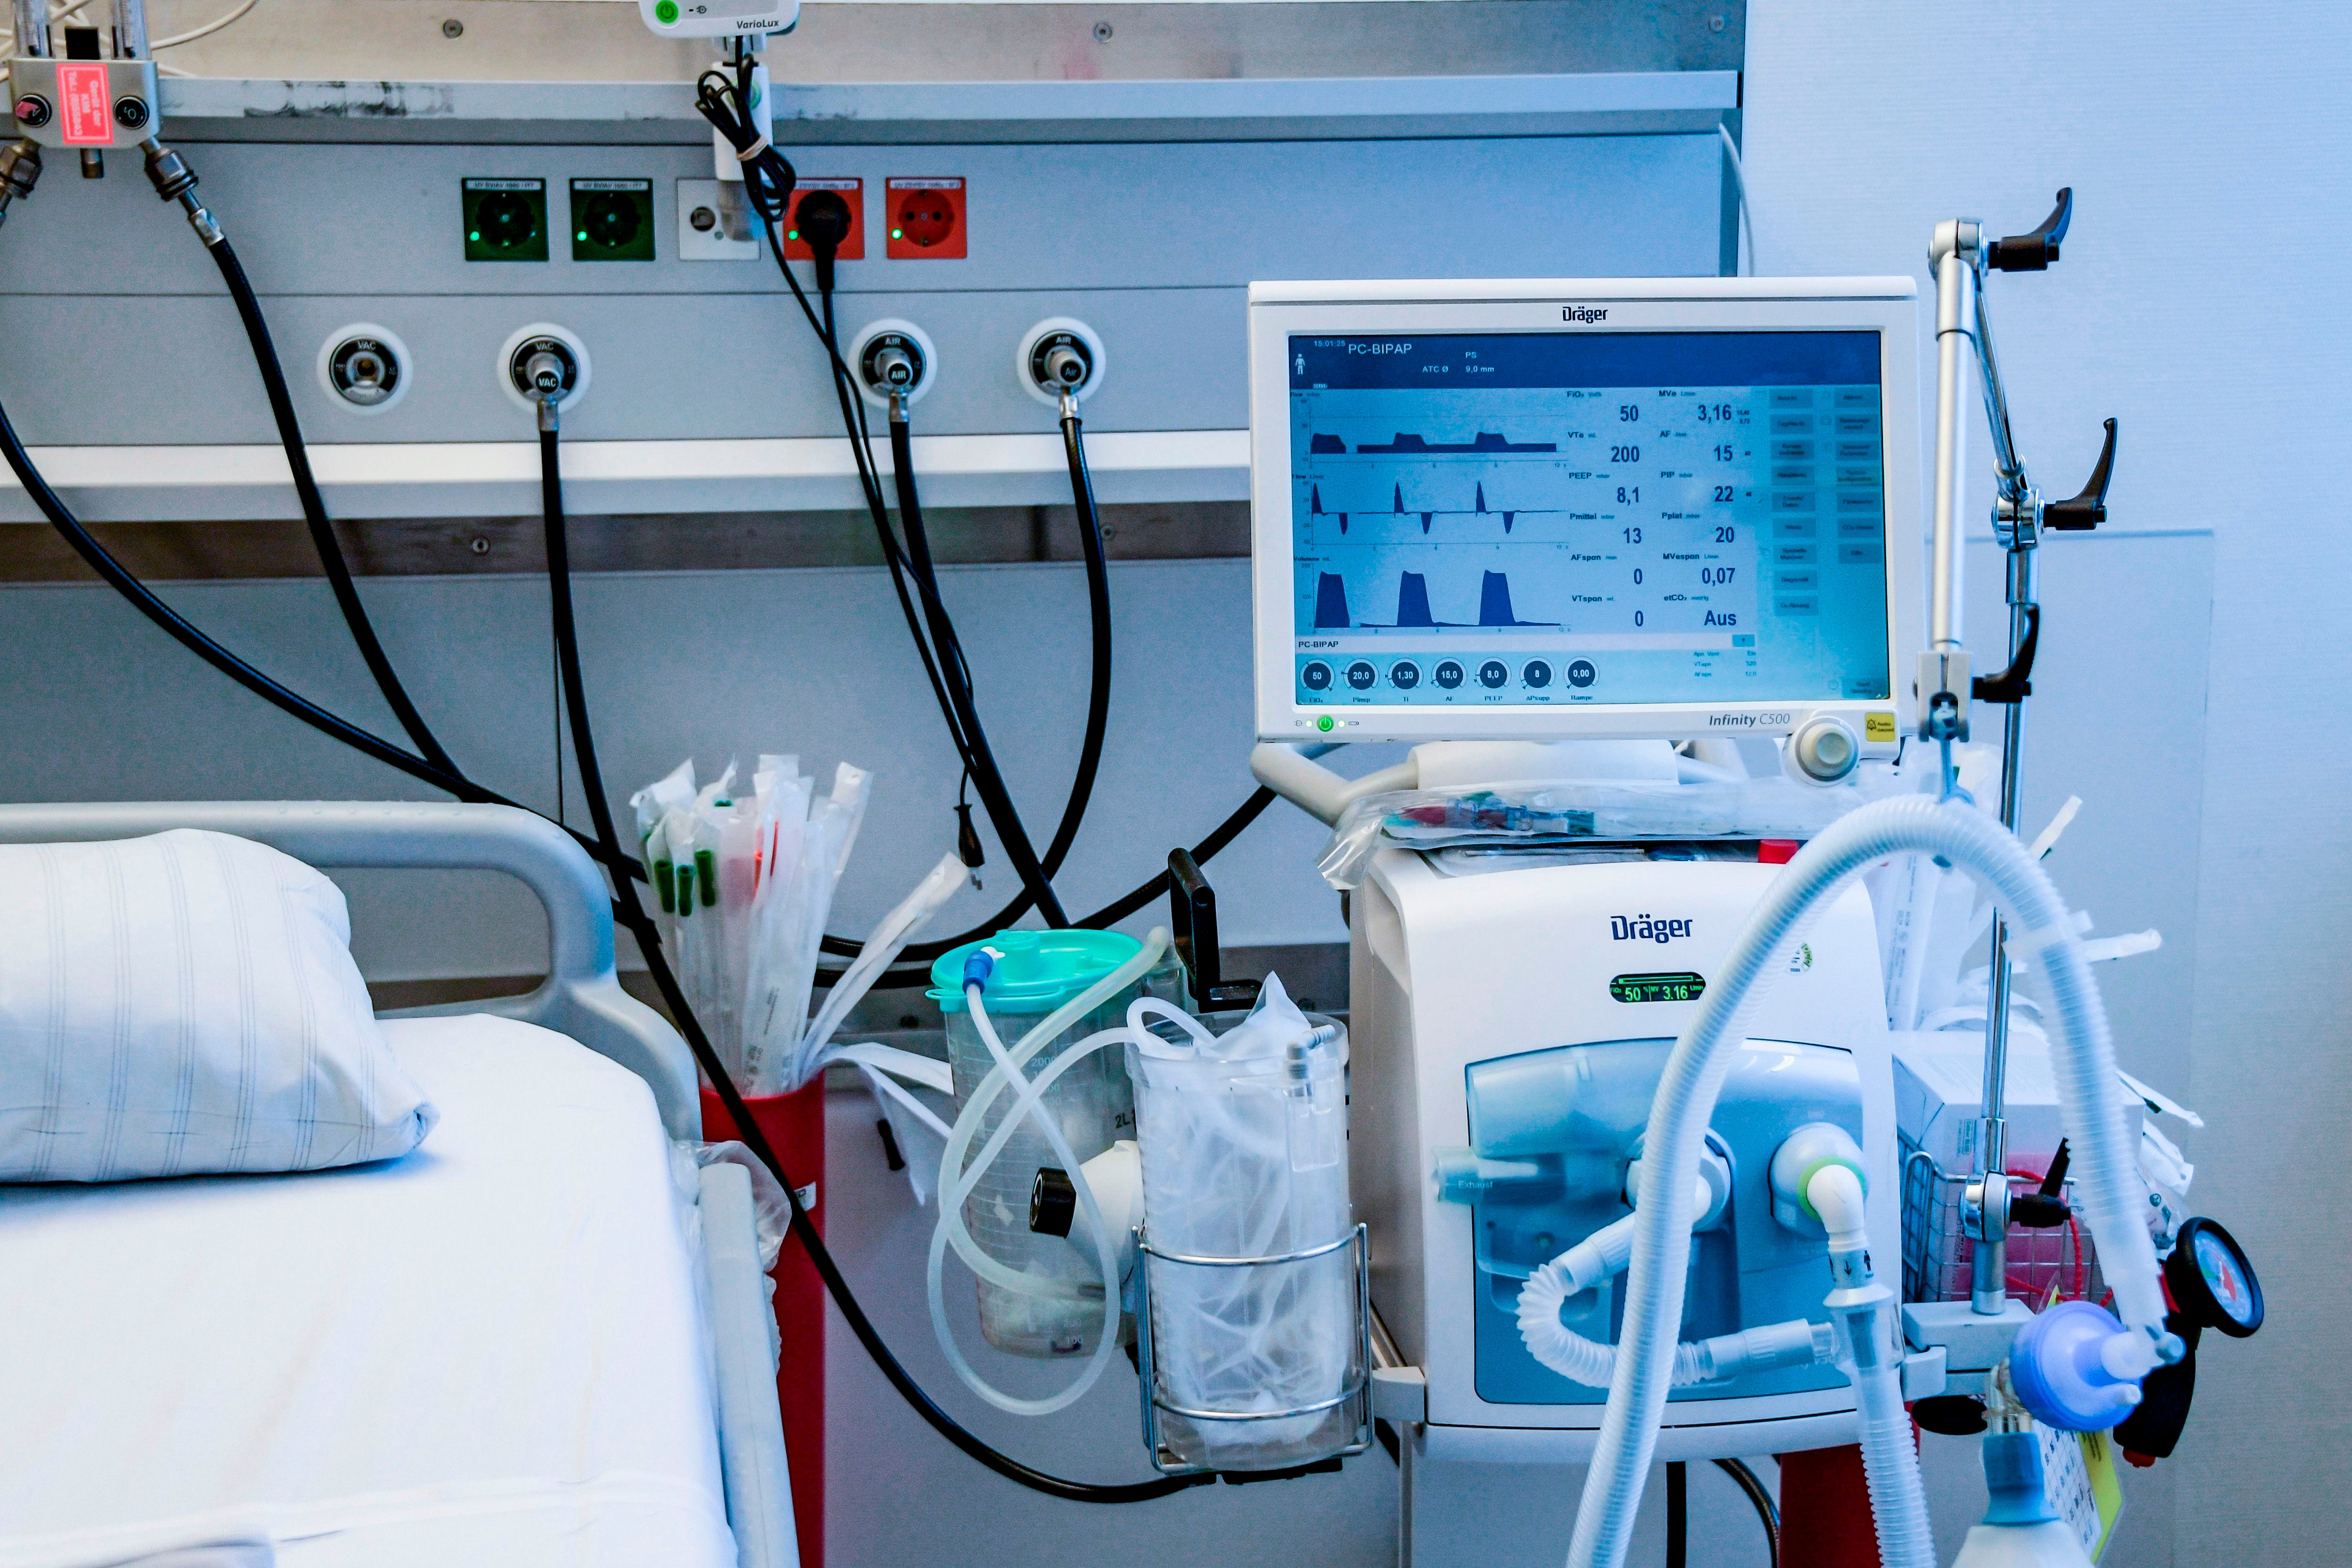bedside_monitor: (1237, 275, 1934, 843)
breathing_tube: (1517, 793, 2352, 1568)
hospital_bed: (0, 782, 801, 1568)
ventilator: (917, 203, 2261, 1568)
